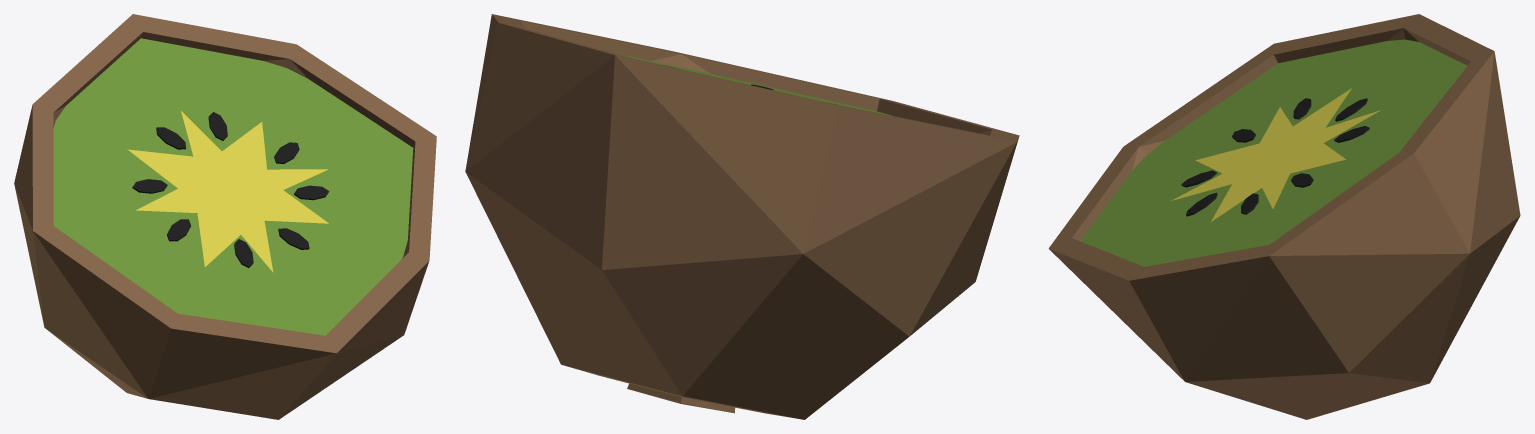
The model's file is kiwihull.fbx.
3 renders of one model, left to right at view 1: azimuth 30°, elevation 25°; view 2: azimuth 150°, elevation 25°; view 3: azimuth 270°, elevation 25°, orthographic. The views are drawn at different scales.
Visible parts, largest first — view 1: Sphere.001; view 2: Sphere.001; view 3: Sphere.001.
Part boxes in pixels (x1=…): Sphere.001: x1=14, y1=14, x2=436, y2=419; Sphere.001: x1=465, y1=14, x2=1019, y2=419; Sphere.001: x1=1048, y1=14, x2=1520, y2=419.
Size of the model in its own units: 72.36 by 56.18 by 68.65.
